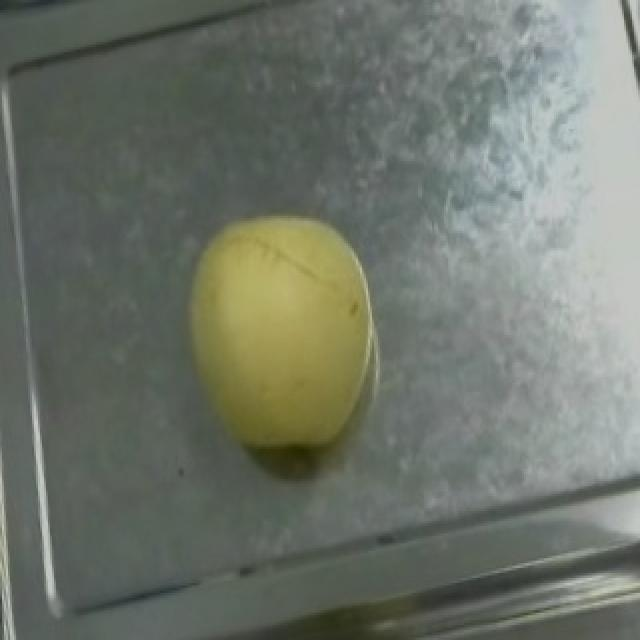Fruit: (158, 181, 412, 486)
